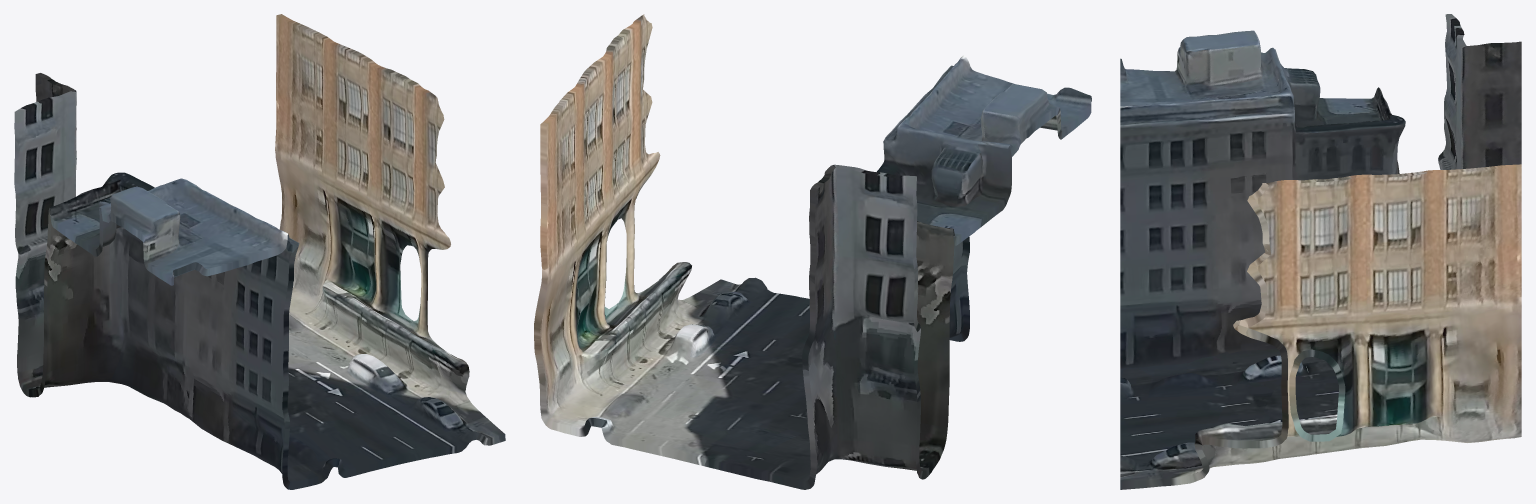
The model's file is z20-167758-405238-h0-yup-uvflip-v3-world.glb.
The picture shows the model from 3 angles, left to right: view 1: azimuth 30°, elevation 25°; view 2: azimuth 150°, elevation 25°; view 3: azimuth 270°, elevation 25°; orthographic projection. The views are drawn at different scales.
Bounding box in the file's own units: 30.24 × 25.64 × 30.32.
Materials: 1 (1 with a texture image).
